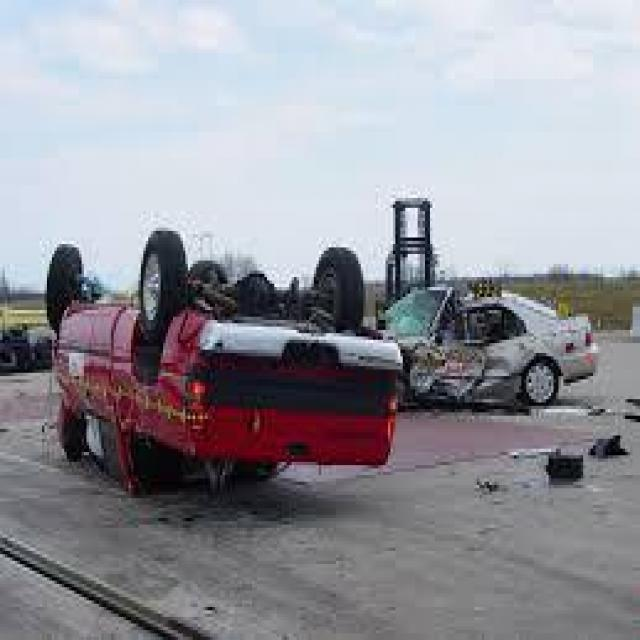accident: (39, 226, 603, 510)
